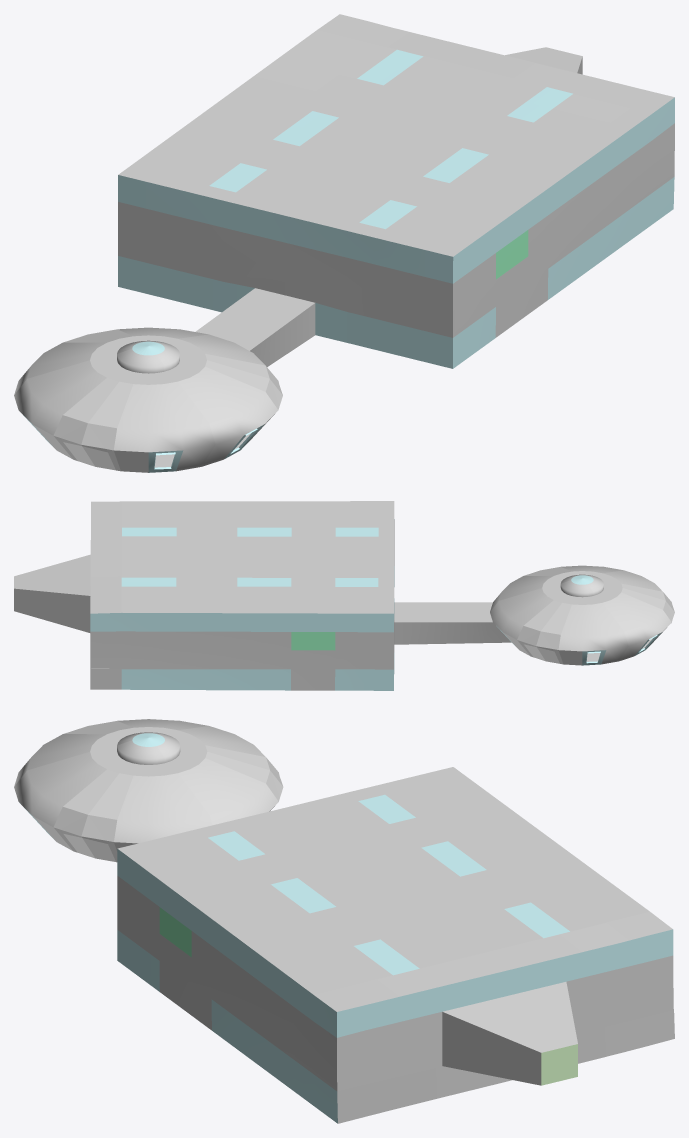
The model's file is FP_UFO_Windowless.fbx.
3 renders of one model, top to bottom at view 1: azimuth 30°, elevation 25°; view 2: azimuth 150°, elevation 25°; view 3: azimuth 270°, elevation 25°, orthographic. The views are drawn at different scales.
Visible parts, largest first — view 1: Walls; view 2: Walls; view 3: Walls.
Part boxes in pixels (box(x1,y1,x2,y2)): Walls: box(14, 14, 674, 472); Walls: box(14, 501, 674, 690); Walls: box(14, 719, 674, 1123).
Size of the model in its own units: 766 by 112 by 587.
